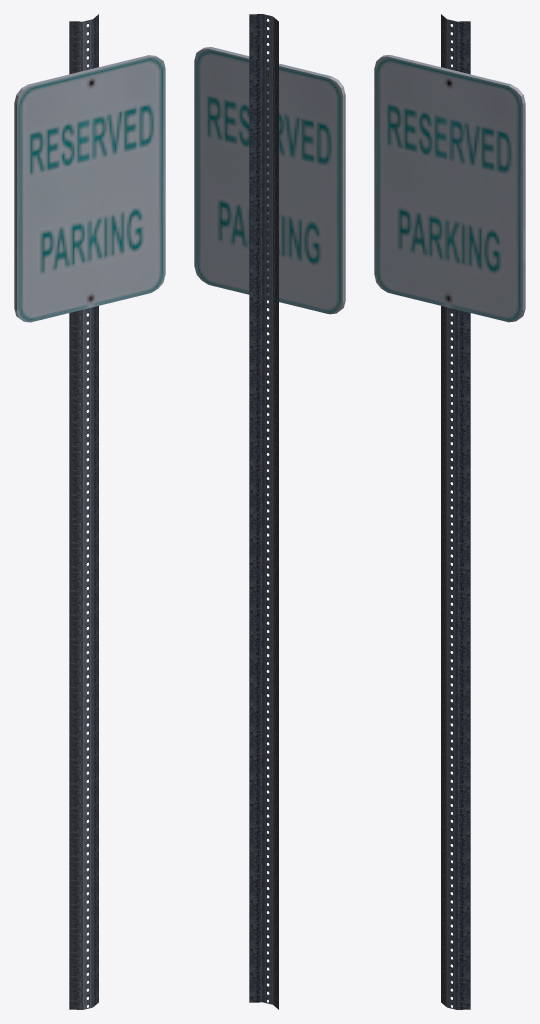
File: Classic64_SignReservedParking_Model.fbx
3 views of the same model, side by side, from view 1: azimuth 30°, elevation 25°; view 2: azimuth 150°, elevation 25°; view 3: azimuth 330°, elevation 25° (orthographic).
Parts seen in each view (by area): view 1: Classic64_SignReservedParking_Part000, Classic64_SignReservedParking_Part001; view 2: Classic64_SignReservedParking_Part000, Classic64_SignReservedParking_Part001; view 3: Classic64_SignReservedParking_Part000, Classic64_SignReservedParking_Part001.
Part boxes in pixels (box(x1,y1,x2,y2)): Classic64_SignReservedParking_Part000: box(14, 55, 165, 322); Classic64_SignReservedParking_Part001: box(69, 14, 98, 1009); Classic64_SignReservedParking_Part000: box(194, 47, 345, 314); Classic64_SignReservedParking_Part001: box(249, 14, 278, 1009); Classic64_SignReservedParking_Part000: box(374, 55, 525, 322); Classic64_SignReservedParking_Part001: box(441, 14, 470, 1009).
Bounding box in the file's own units: 0.2877 × 1.83 × 0.0236.
2 materials, 2 textured.
